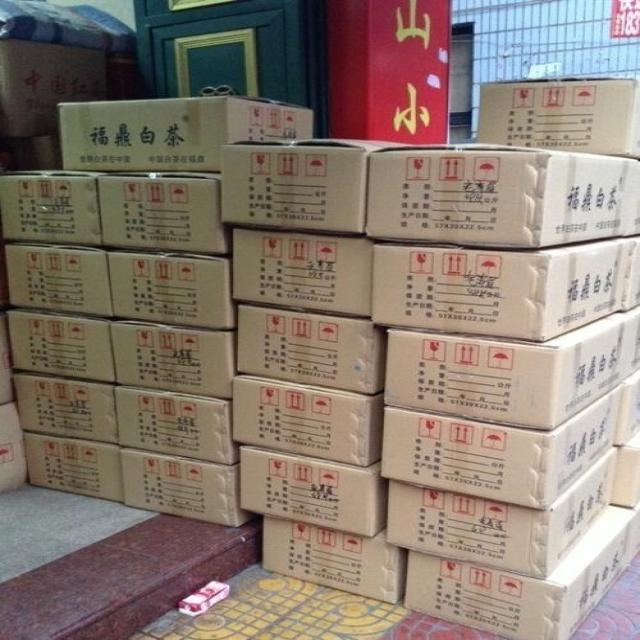box: (381, 306, 640, 429), (402, 506, 639, 638), (388, 446, 618, 580), (380, 385, 618, 510), (371, 236, 639, 345), (365, 143, 639, 248), (62, 95, 312, 172), (223, 139, 404, 235), (238, 444, 388, 539), (230, 223, 372, 323), (230, 373, 381, 467), (237, 303, 385, 396), (262, 514, 404, 606), (476, 80, 640, 159), (105, 248, 232, 328), (101, 171, 224, 253), (118, 446, 239, 527), (115, 384, 232, 466), (115, 319, 232, 398), (10, 309, 116, 383), (6, 245, 115, 316), (1, 170, 101, 247), (23, 431, 123, 503), (14, 375, 115, 445), (612, 428, 640, 508), (616, 368, 637, 449)
